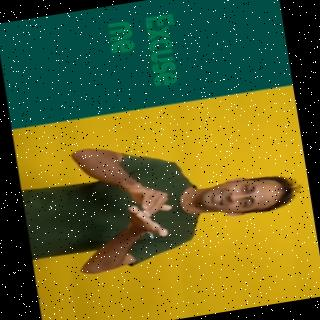ExcuseMe: (18, 116, 310, 284)
